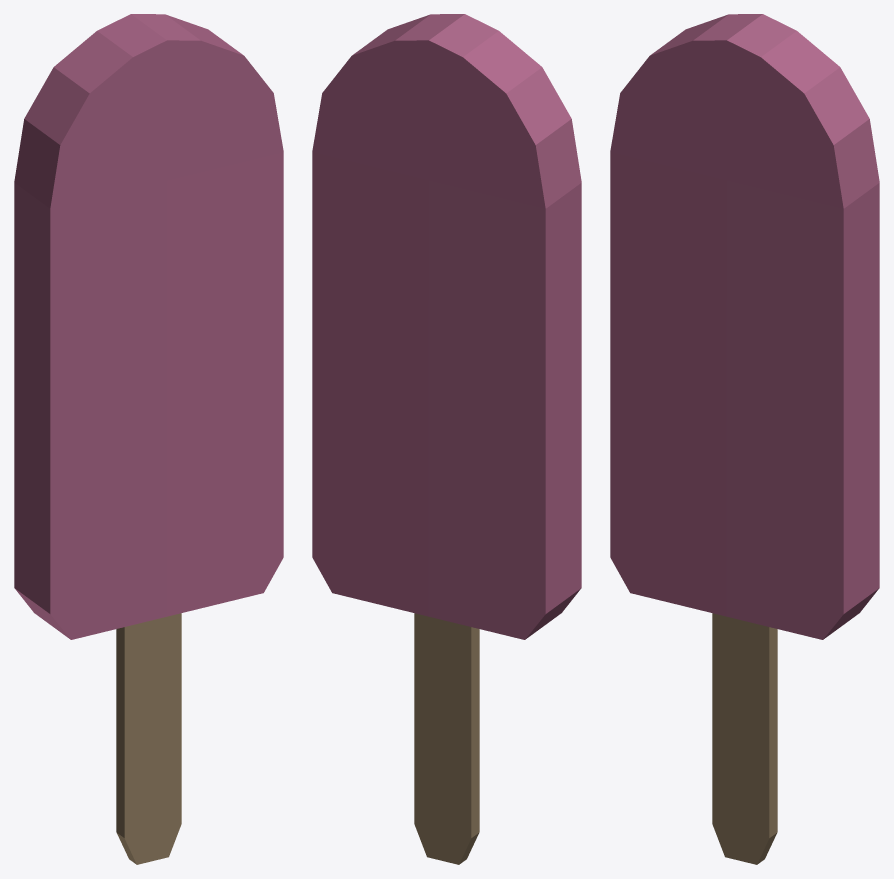
Rendered from Popsicle_Strawberry.glb.
3 renders of one model, left to right at view 1: azimuth 30°, elevation 25°; view 2: azimuth 150°, elevation 25°; view 3: azimuth 330°, elevation 25°, orthographic.
Visible parts, largest first — view 1: Popsicle_Strawberry; view 2: Popsicle_Strawberry; view 3: Popsicle_Strawberry.
Boxes of the visible parts, x1,y1,x2,y2 form: Popsicle_Strawberry: [14, 14, 283, 864]; Popsicle_Strawberry: [312, 14, 581, 864]; Popsicle_Strawberry: [610, 14, 879, 864].
Bounding box in the file's own units: 0.048 × 0.1634 × 0.0132.
